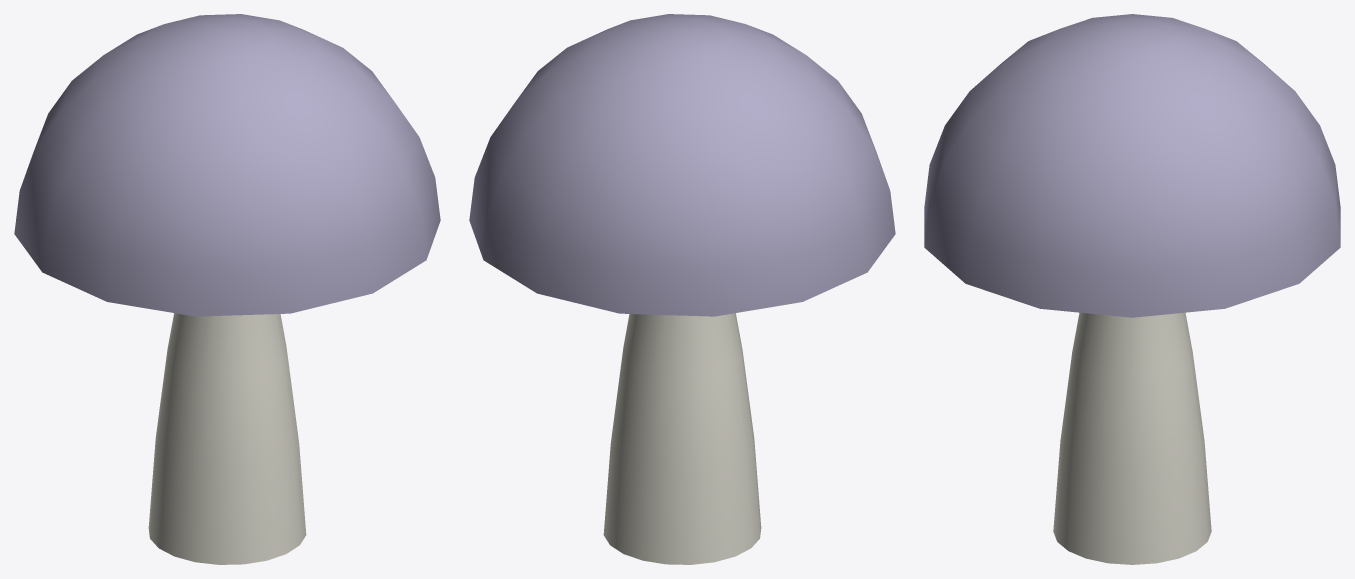
The model's file is MushroomPaarsGroot.fbx.
The picture shows the model from 3 angles, left to right: view 1: azimuth 30°, elevation 25°; view 2: azimuth 150°, elevation 25°; view 3: azimuth 270°, elevation 25°; orthographic projection.
Visible parts, largest first — view 1: polySurface3395; view 2: polySurface3395; view 3: polySurface3395.
Part boxes in pixels (x1=…): polySurface3395: x1=14, y1=14, x2=440, y2=564; polySurface3395: x1=469, y1=14, x2=895, y2=564; polySurface3395: x1=924, y1=14, x2=1340, y2=564.
Size of the model in its own units: 0.0878 by 0.1129 by 0.0856.
